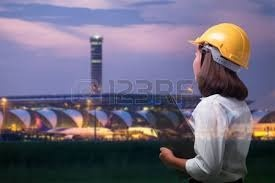helmet: (188, 20, 255, 67)
person with partial safety: (177, 17, 267, 178)
